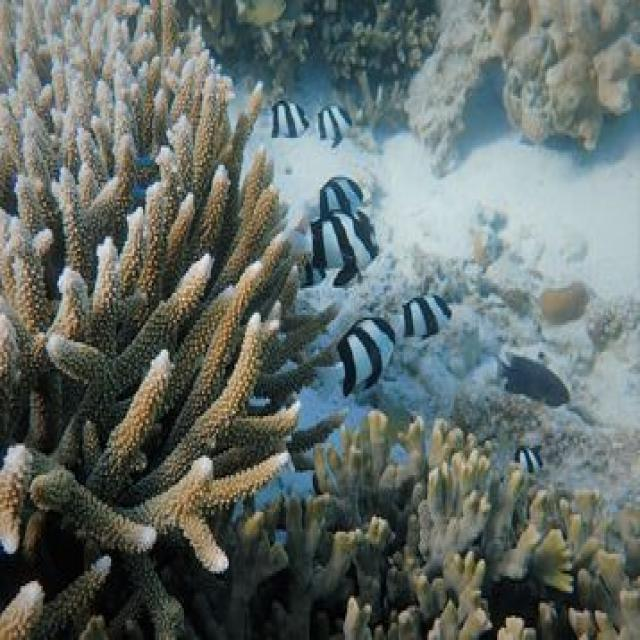Three_striped DasmselFish: (321, 308, 396, 398), (296, 212, 378, 264), (400, 291, 460, 340), (314, 167, 370, 217), (271, 99, 310, 147), (316, 102, 350, 144), (330, 266, 367, 300), (287, 258, 327, 288)
